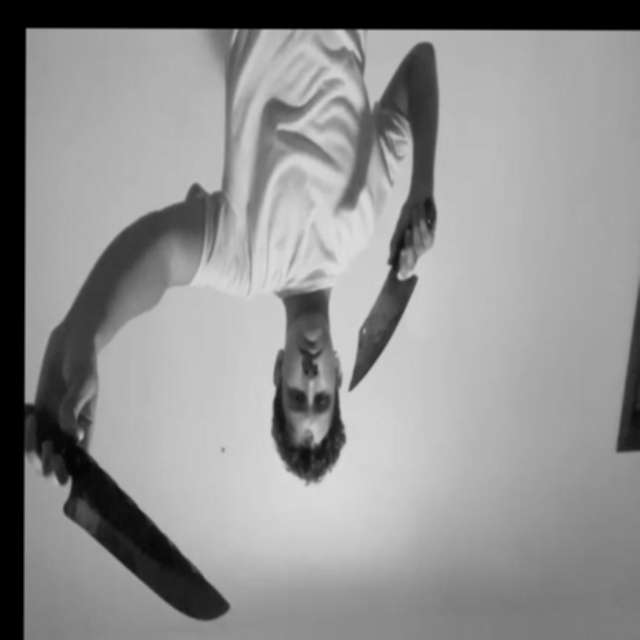Sharp-Object: (60, 494, 231, 621), (349, 276, 418, 393)
